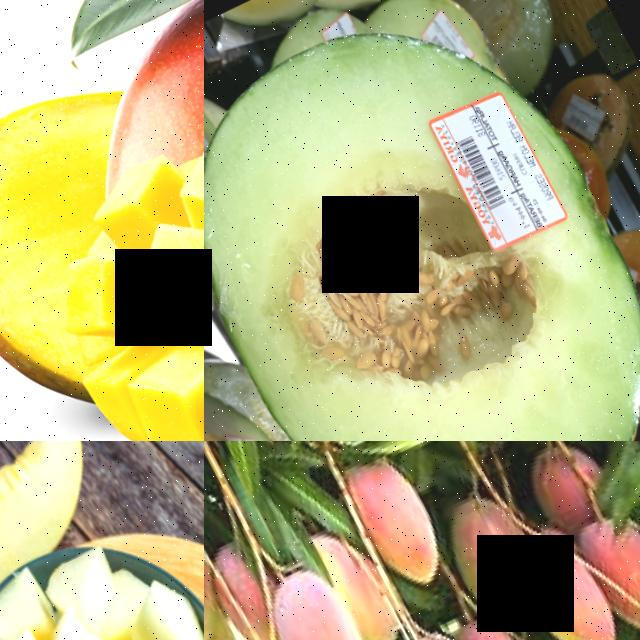mango: (74, 0, 204, 180), (337, 456, 453, 599), (496, 528, 623, 640), (244, 557, 382, 640), (425, 488, 521, 587), (442, 608, 548, 640)
melon: (204, 3, 640, 441), (0, 441, 130, 619)
pawpaw: (510, 0, 640, 157)
